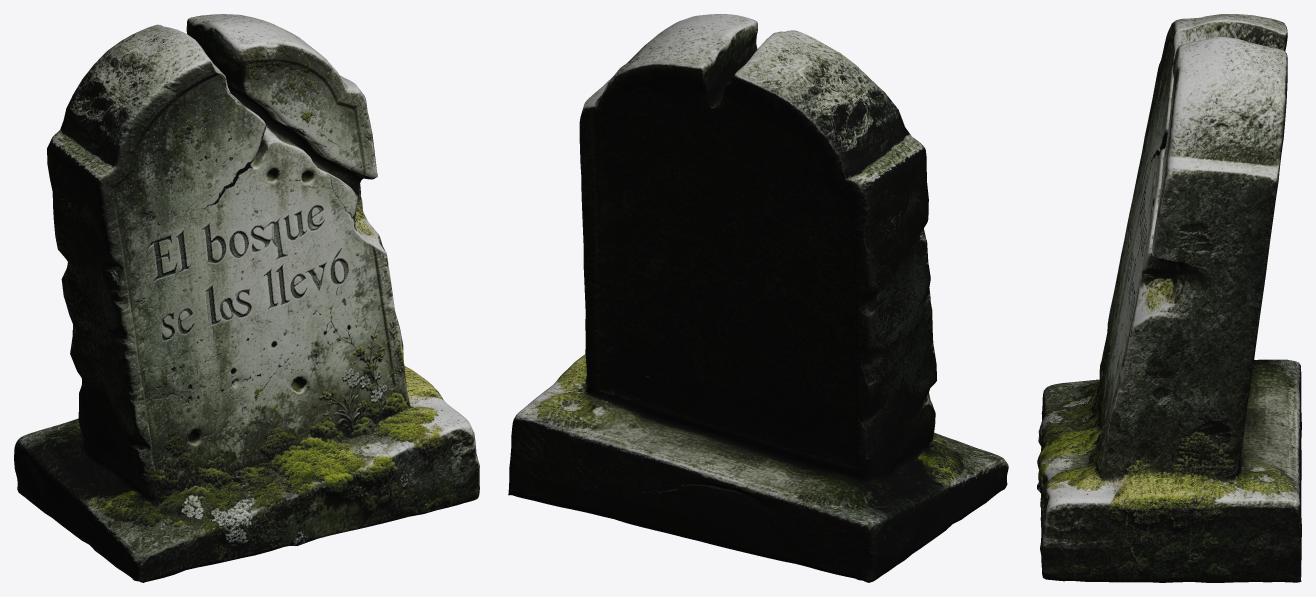
The model's file is tumba.fbx.
The picture shows the model from 3 angles, left to right: view 1: azimuth 30°, elevation 25°; view 2: azimuth 150°, elevation 25°; view 3: azimuth 270°, elevation 25°; orthographic projection. The views are drawn at different scales.
Parts seen in each view (by area): view 1: tripo_node_0995969e; view 2: tripo_node_0995969e; view 3: tripo_node_0995969e.
Boxes of the visible parts, <box> form: tripo_node_0995969e: <box>14,14,479,582</box>; tripo_node_0995969e: <box>508,14,1008,582</box>; tripo_node_0995969e: <box>1037,14,1301,582</box>.
Bounding box in the file's own units: 80.64 × 52.17 × 99.79.
Materials: 1 (1 with a texture image).
